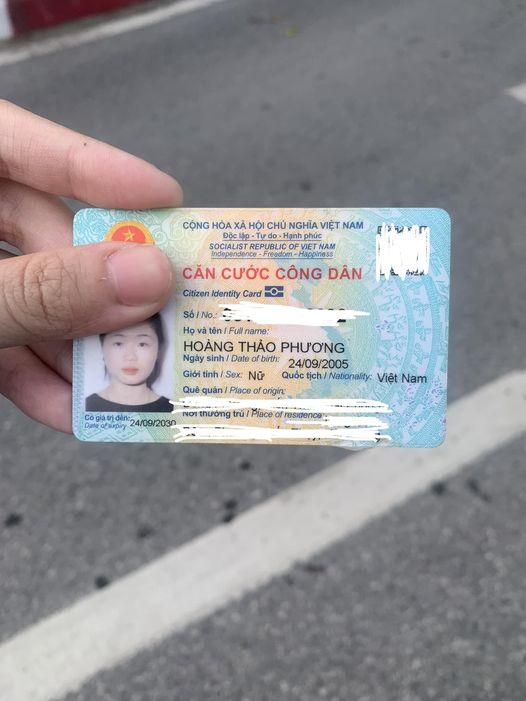bottom_left: (58, 425, 86, 446)
bottom_right: (428, 425, 459, 454)
image_person: (79, 300, 175, 415)
top_left: (66, 203, 92, 223)
top_right: (433, 200, 459, 218)
